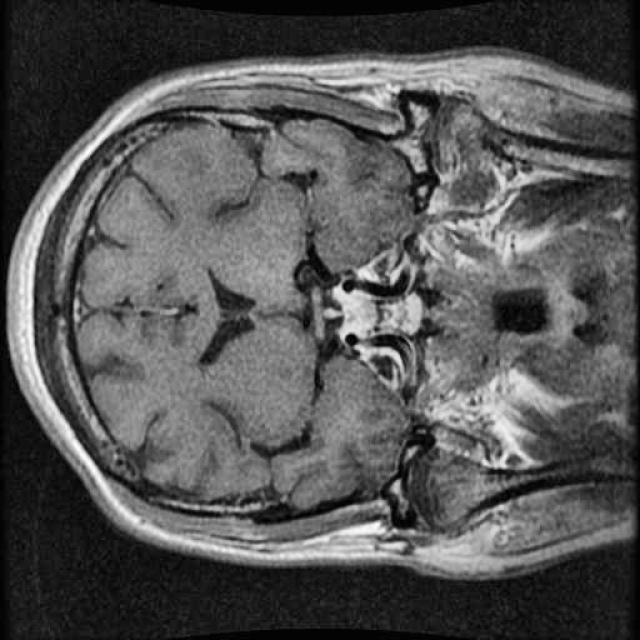Tumor: (322, 271, 400, 364)
